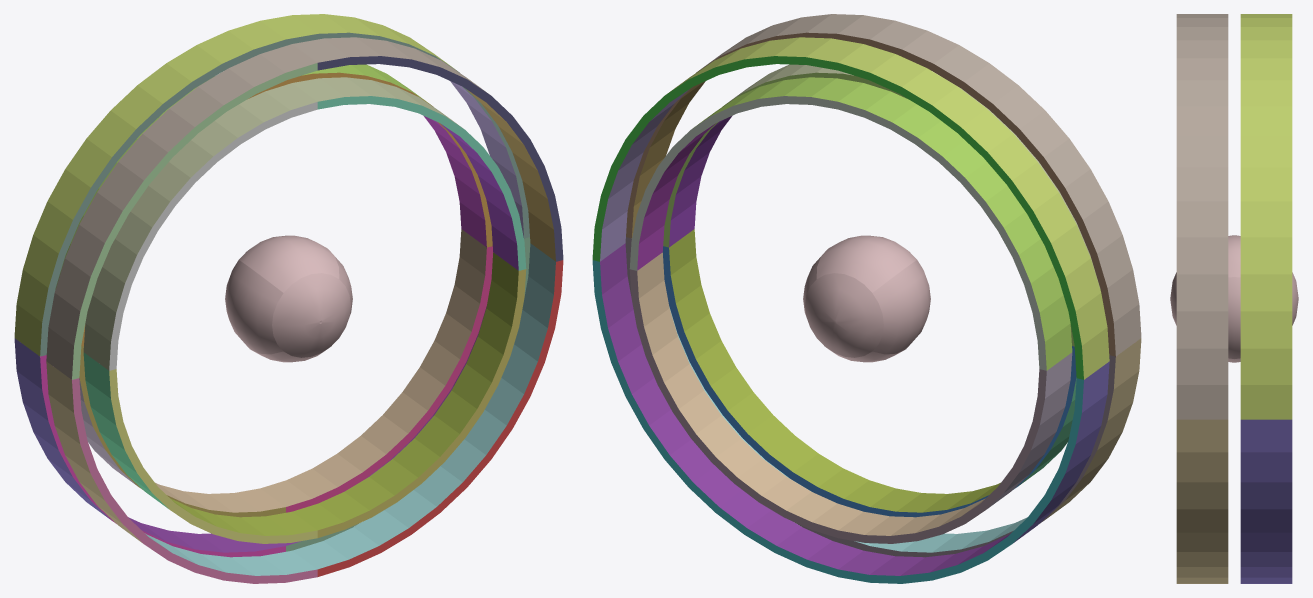
The model's file is module-draggable-01.glb.
3 views of the same model, side by side, from view 1: azimuth 30°, elevation 25°; view 2: azimuth 150°, elevation 25°; view 3: azimuth 270°, elevation 25° (orthographic).
Bounding box in the file's own units: 1.78 × 1.78 × 0.4.
